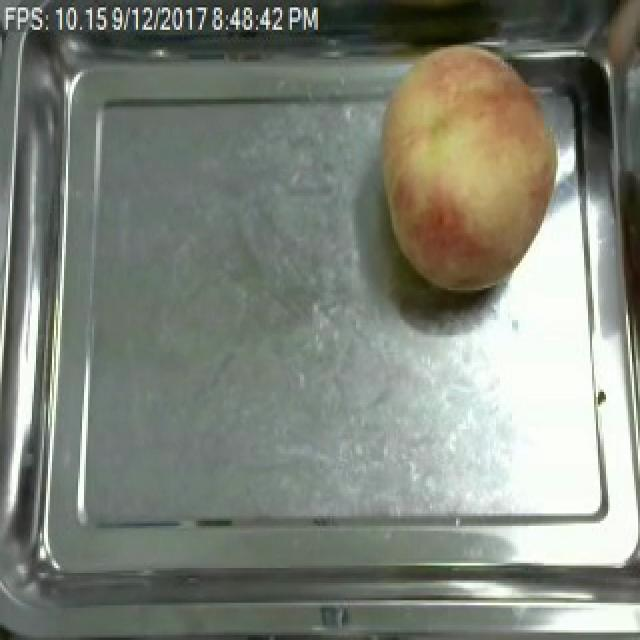Fruit: (366, 40, 572, 302)
